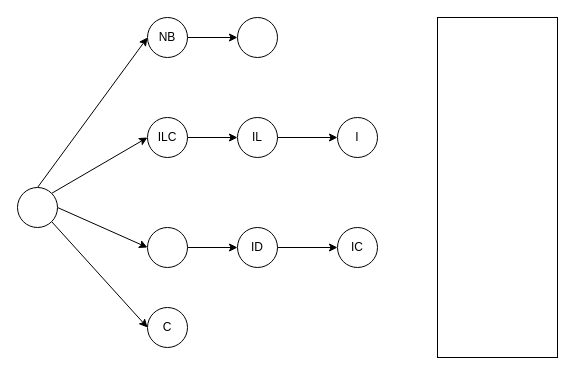
Image size: 575x375. Some labels were removed from this diagram. Here are the shapes that lost their labels. From the top down, the centre of each, then its label:
At point 257,37: "CW".
At point 37,207: "App".
At point 497,187: "Context".
At point 167,247: "IDC".
